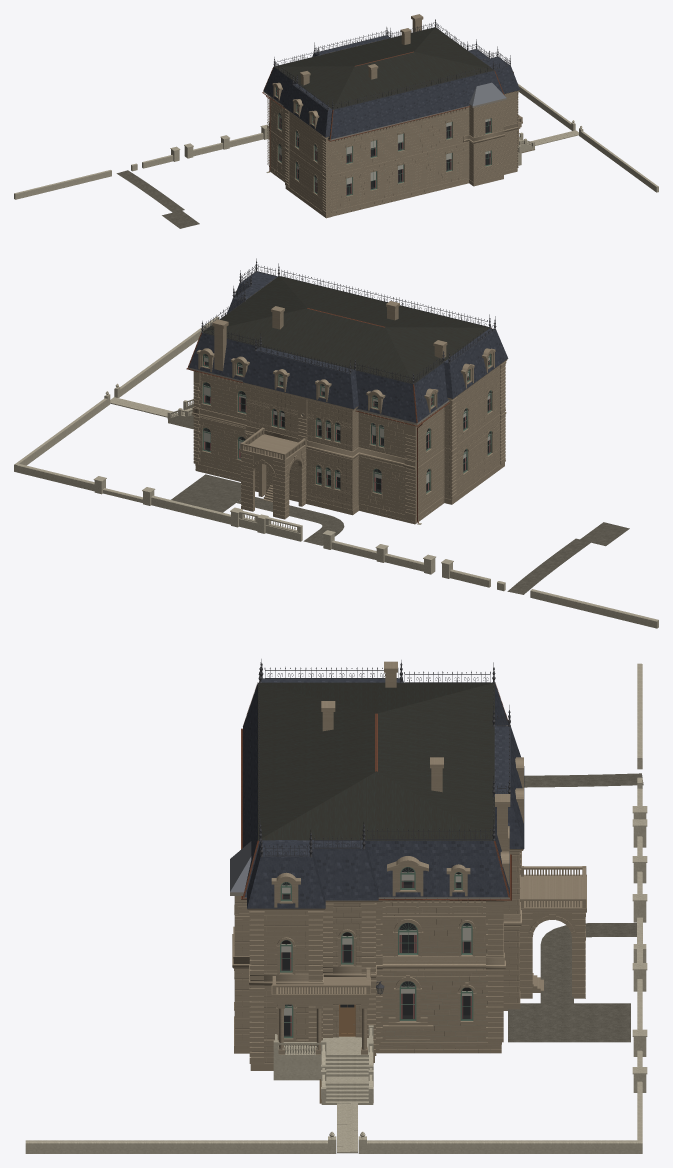
The model's file is pullman_house_1729_prairie__as_mapped_1904.glb.
The picture shows the model from 3 angles, top to bottom: view 1: azimuth 30°, elevation 25°; view 2: azimuth 150°, elevation 25°; view 3: azimuth 270°, elevation 25°; orthographic projection. The views are drawn at different scales.
Parts seen in each view (by area): view 1: pullman_house_1729_prairie__as_mapped_1904; view 2: pullman_house_1729_prairie__as_mapped_1904; view 3: pullman_house_1729_prairie__as_mapped_1904.
Boxes of the visible parts, x1,y1,x2,y2 form: pullman_house_1729_prairie__as_mapped_1904: (14, 14, 658, 228); pullman_house_1729_prairie__as_mapped_1904: (14, 258, 658, 628); pullman_house_1729_prairie__as_mapped_1904: (25, 659, 647, 1153).
Size of the model in its own units: 81.23 by 19.5 by 44.57.
Materials: 22 (11 with a texture image).
